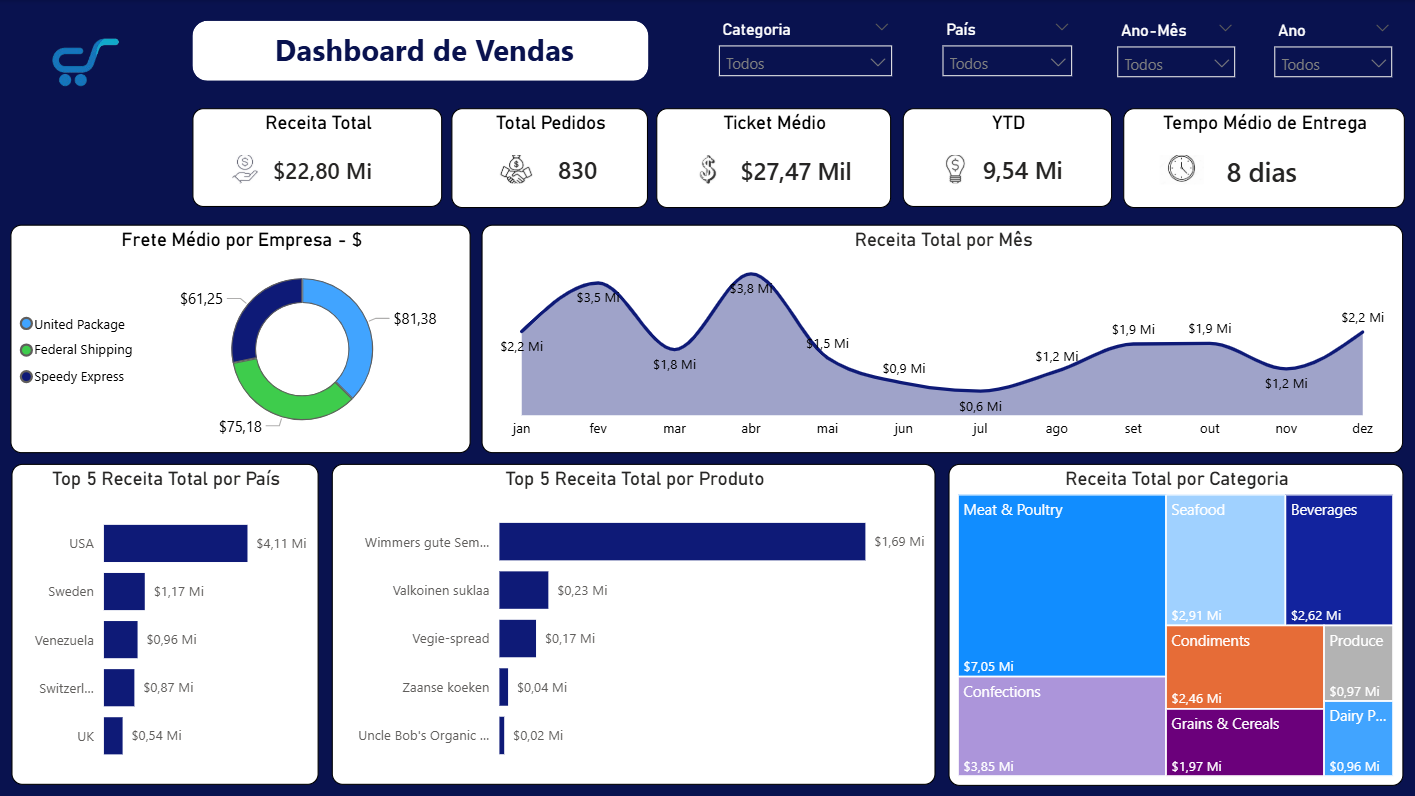

The page's visual inventory and layout, read from the dashboard file:
{"tool":"powerbi","page":{"name":"Visão Executiva","canvas":[1280,720],"ordinal":0},"visuals":[{"type":"lineChart","title":"Receita Total por Mês","fields":{"Category":["d_calendario.Mês Abrev"],"Y":["Medidas.Receita Total c/desconto"]},"box":[435.9,203,834.1,206.8],"z":0},{"type":"barChart","title":"Top 5 Receita Total por Produto","fields":{"Category":["dim_products.productName"],"Y":["Medidas.Receita Total c/desconto"]},"box":[299.8,419.5,546.3,290.7],"z":1000},{"type":"treemap","title":"Receita Total por Categoria","fields":{"Group":["categories.categoryName"],"Values":["Medidas.Receita Total c/desconto"]},"box":[858.2,419.5,411.5,291.8],"z":2000},{"type":"barChart","title":"Top 5 Receita Total por País","fields":{"Category":["customers.country"],"Y":["Medidas.Receita Total c/desconto"]},"box":[10.1,419.5,277.7,290.7],"z":3000},{"type":"cardVisual","title":"Receita Total","fields":{"Data":["Medidas.Receita Total"]},"box":[173.8,97.6,226.4,89.5],"z":4000},{"type":"cardVisual","title":"Total Pedidos","fields":{"Data":["Medidas.Total Pedidos"]},"box":[408.2,97.6,177.9,90],"z":5000},{"type":"cardVisual","title":"Ticket Médio","fields":{"Data":["Medidas.Ticket Médio"]},"box":[593.3,97.6,212.3,90.5],"z":6000},{"type":"cardVisual","title":"YTD","fields":{"Data":["Medidas.Receita YTD"]},"box":[816.7,97.6,189.1,89.5],"z":7000},{"type":"cardVisual","title":"Tempo Médio de Entrega","fields":{"Data":["Medidas.Tempo Médio Entrega Dias"]},"box":[1015.8,97.6,254.5,90.5],"z":8000},{"type":"slicer","fields":{"Values":["d_calendario.Ano"]},"box":[1142.9,14.1,126.8,57.3],"z":9000},{"type":"slicer","fields":{"Values":["categories.categoryName"]},"box":[640.9,13.1,176.1,57.3],"z":10000},{"type":"slicer","fields":{"Values":["customers.country"]},"box":[843.1,13.1,136.8,57.3],"z":11000},{"type":"slicer","fields":{"Values":["d_calendario.Ano-Mês"]},"box":[1001,14.1,126.8,57.3],"z":12000},{"type":"pieChart","title":"Frete Médio por Empresa - $","fields":{"Category":["shippers.companyName"],"Y":["Medidas.Frete Médio"]},"box":[9.7,203,416.6,206.8],"z":13000},{"type":"shape","box":[174.2,19.2,412.5,54.3],"z":14000},{"type":"textbox","box":[243.6,21.2,312.9,51.3],"z":15000},{"type":"image","box":[19.3,14.5,115,85.1],"z":16000}]}

Visuals, with their boxes in screenshot pixels (x1, y1, x2, y2), scaled from the page's 1280x720 canvas onto the 1415x796 screenshot:
"Receita Total por Mês" lineChart: 482, 224, 1404, 453
"Top 5 Receita Total por Produto" barChart: 331, 464, 935, 785
"Receita Total por Categoria" treemap: 949, 464, 1404, 786
"Top 5 Receita Total por País" barChart: 11, 464, 318, 785
"Receita Total" cardVisual: 192, 108, 442, 207
"Total Pedidos" cardVisual: 451, 108, 648, 207
"Ticket Médio" cardVisual: 656, 108, 891, 208
"YTD" cardVisual: 903, 108, 1112, 207
"Tempo Médio de Entrega" cardVisual: 1123, 108, 1404, 208
slicer - d_calendario.Ano: 1263, 16, 1404, 79
slicer - categories.categoryName: 708, 14, 903, 78
slicer - customers.country: 932, 14, 1083, 78
slicer - d_calendario.Ano-Mês: 1107, 16, 1247, 79
"Frete Médio por Empresa - $" pieChart: 11, 224, 471, 453
shape: 193, 21, 649, 81
textbox: 269, 23, 615, 80
image: 21, 16, 148, 110
